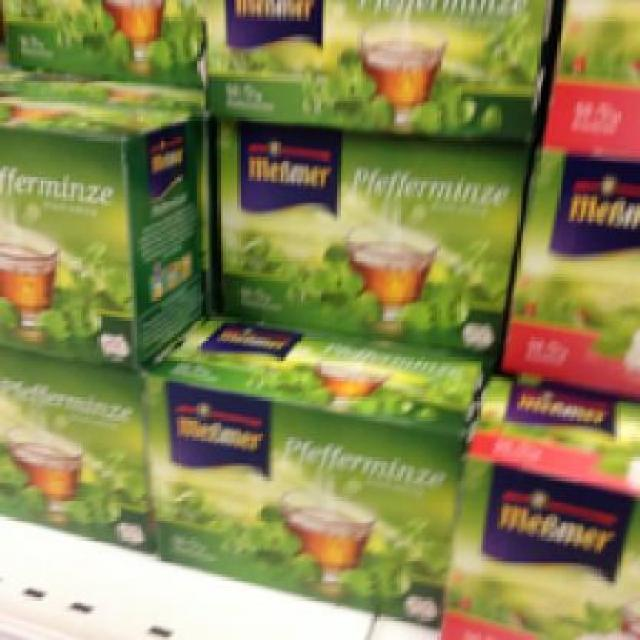Tea: (142, 314, 472, 626), (210, 117, 526, 360), (0, 93, 195, 366), (200, 0, 546, 140)
